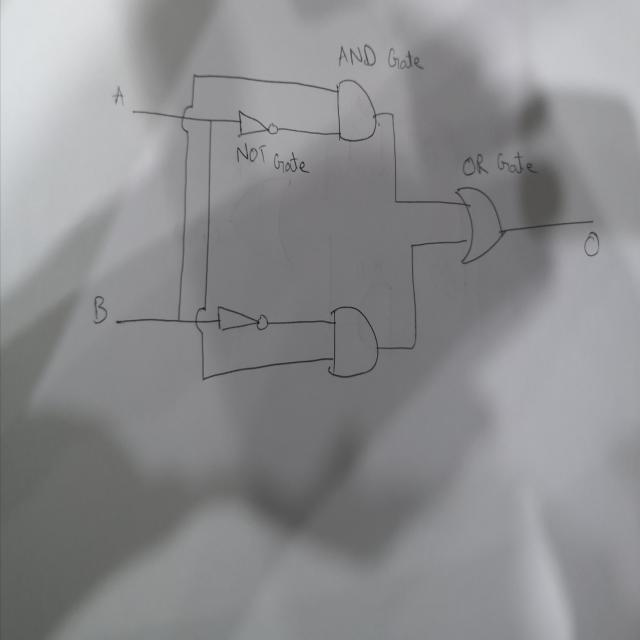crossover: (180, 100, 194, 135), (193, 304, 208, 336)
junction: (408, 337, 419, 353), (173, 311, 183, 327), (408, 239, 416, 252), (207, 114, 214, 128), (388, 108, 396, 120), (392, 194, 399, 207), (191, 69, 197, 82), (200, 372, 206, 383)
terminal: (128, 106, 138, 118), (113, 315, 120, 328), (589, 214, 595, 226)
text: (334, 42, 426, 73), (236, 142, 310, 176), (461, 149, 539, 178), (92, 290, 109, 326), (582, 229, 600, 258), (111, 82, 125, 110)
